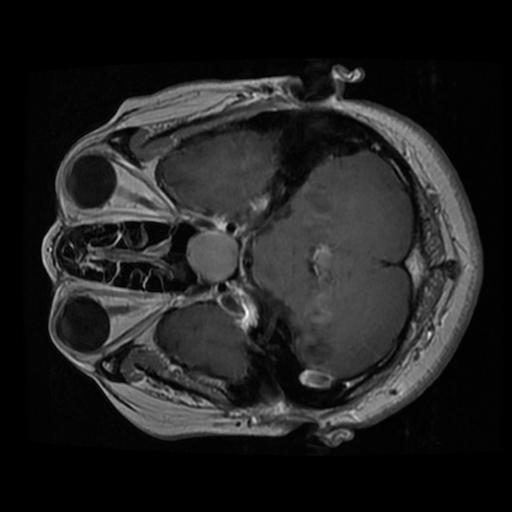pituitary tumour: (187, 232, 237, 282)
